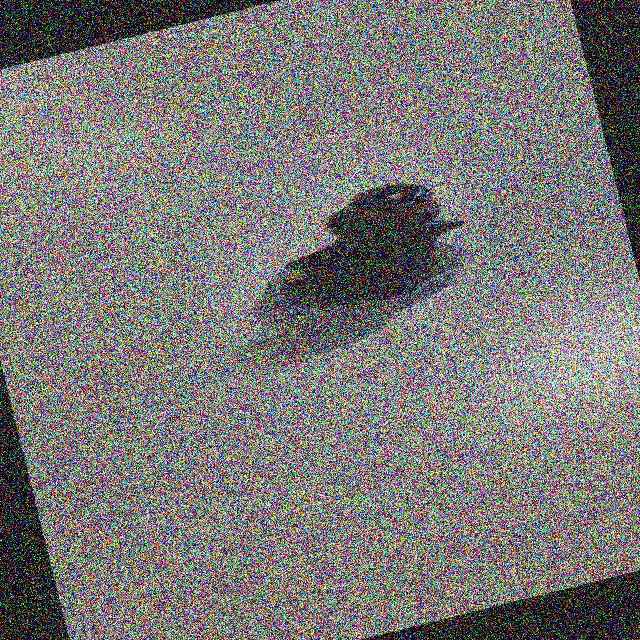Penguin: (240, 165, 481, 340)
